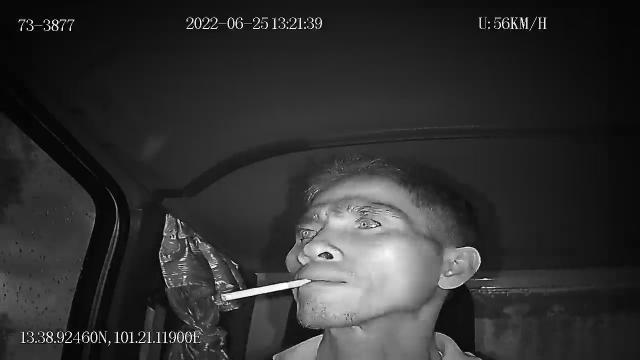SafeDriving: (348, 212, 390, 237)
Smoking: (220, 276, 308, 304)
